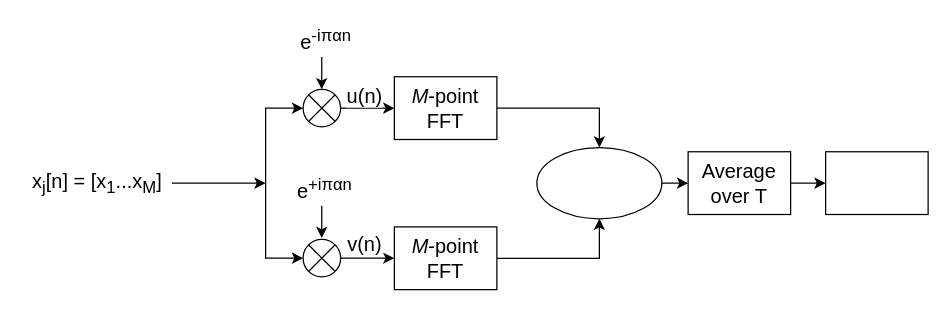
The diagram is 950 pixels wide and 311 high, and some of its shapes have lost their labels. Here are the shapes that lost their labels. From the top down, the box of each, then its label:
(536, 146, 662, 219): Correlate
(824, 150, 928, 215): Feature Detection
